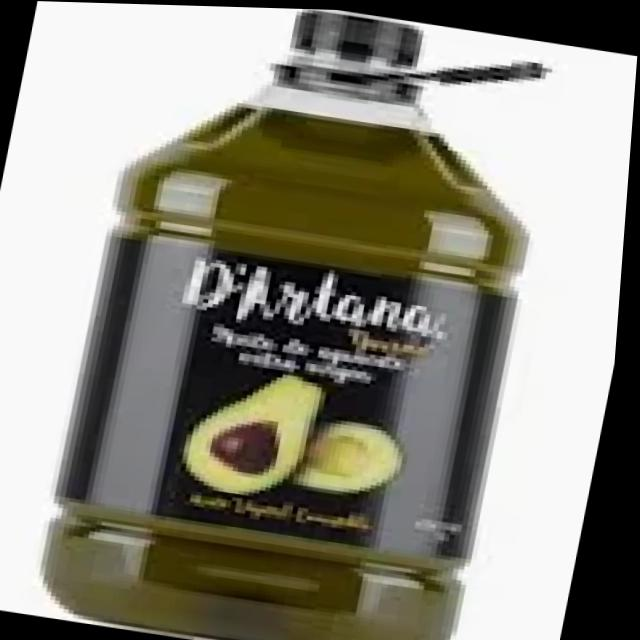Botella: (15, 2, 569, 640)
